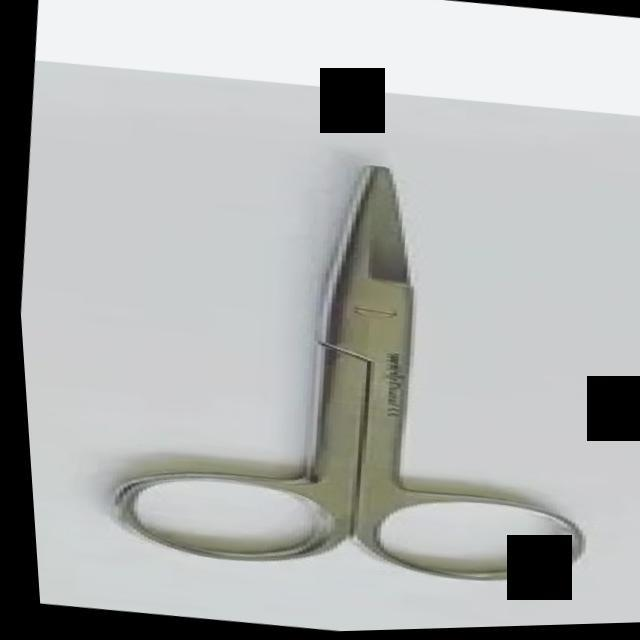Straight Mayo: (77, 126, 635, 612)
